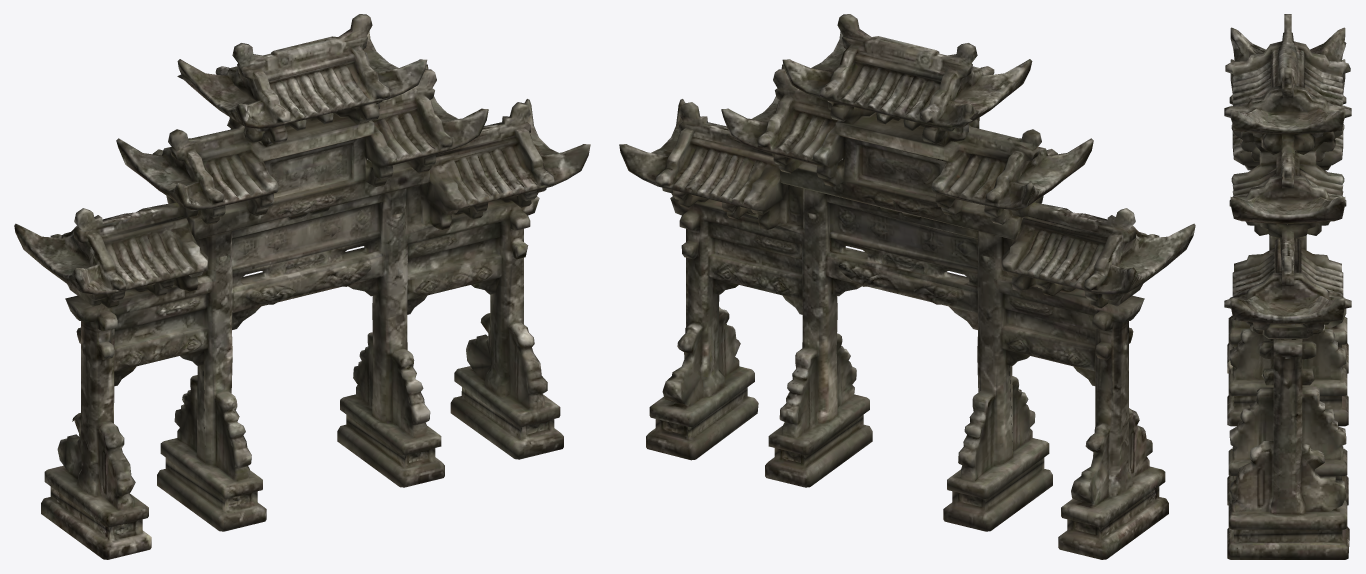
File: paifang.glb
3 renders of one model, left to right at view 1: azimuth 30°, elevation 25°; view 2: azimuth 150°, elevation 25°; view 3: azimuth 270°, elevation 25°, orthographic. The views are drawn at different scales.
Parts seen in each view (by area): view 1: tripo_node_f8378201-02c6-4d69-a62e-887f768bb8e7; view 2: tripo_node_f8378201-02c6-4d69-a62e-887f768bb8e7; view 3: tripo_node_f8378201-02c6-4d69-a62e-887f768bb8e7.
Boxes of the visible parts, left/top/right/bottom form: tripo_node_f8378201-02c6-4d69-a62e-887f768bb8e7: left=14, top=14, right=590, bottom=559; tripo_node_f8378201-02c6-4d69-a62e-887f768bb8e7: left=619, top=14, right=1195, bottom=559; tripo_node_f8378201-02c6-4d69-a62e-887f768bb8e7: left=1224, top=14, right=1351, bottom=559.
Size of the model in its own units: 0.9776 by 0.8168 by 0.2276.
1 material, 1 textured.
